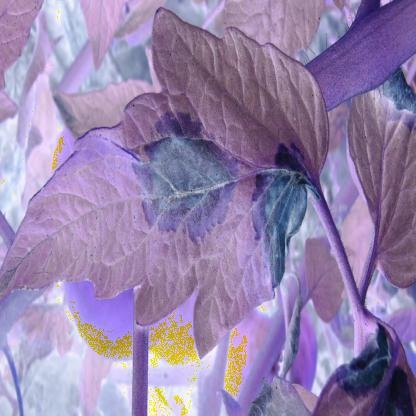tomato leaf late blight: (0, 10, 335, 372)
